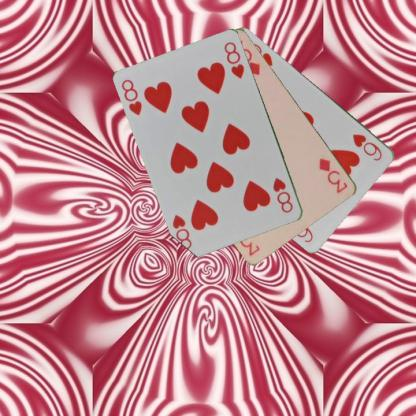3d: (316, 155, 350, 195)
6h: (350, 132, 384, 162)
8h: (119, 77, 144, 117), (270, 175, 295, 214)
